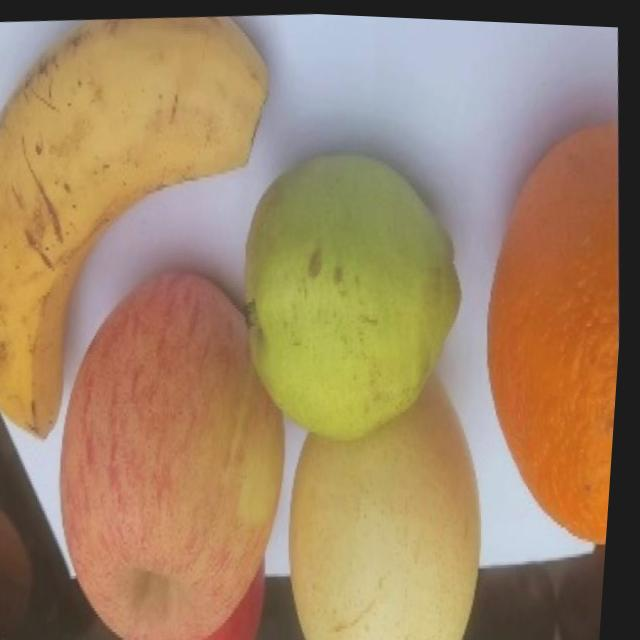Apple: (43, 257, 315, 640), (145, 546, 281, 640)
Banana: (0, 4, 299, 453)
Orange: (464, 111, 635, 548)
